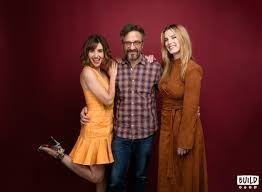Bad: (38, 24, 159, 192), (116, 24, 202, 192)
